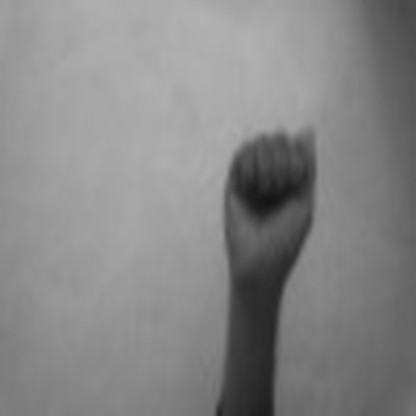a: (212, 115, 335, 260)
